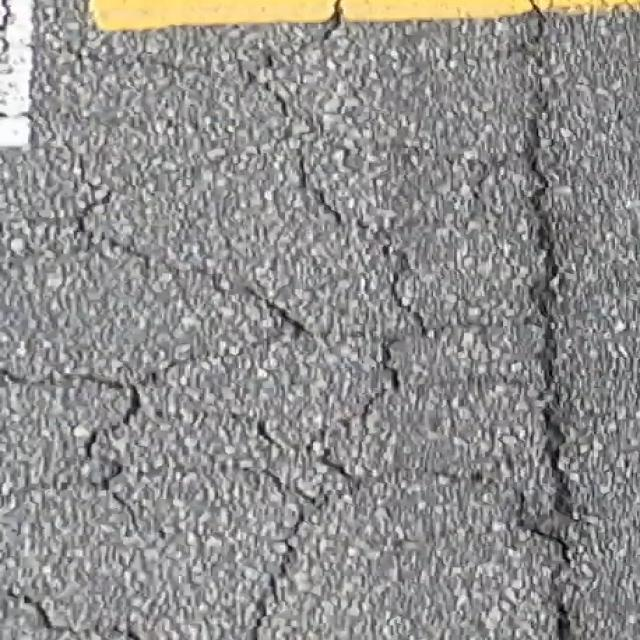PIEL DE COCODRILO: (0, 0, 591, 639)
